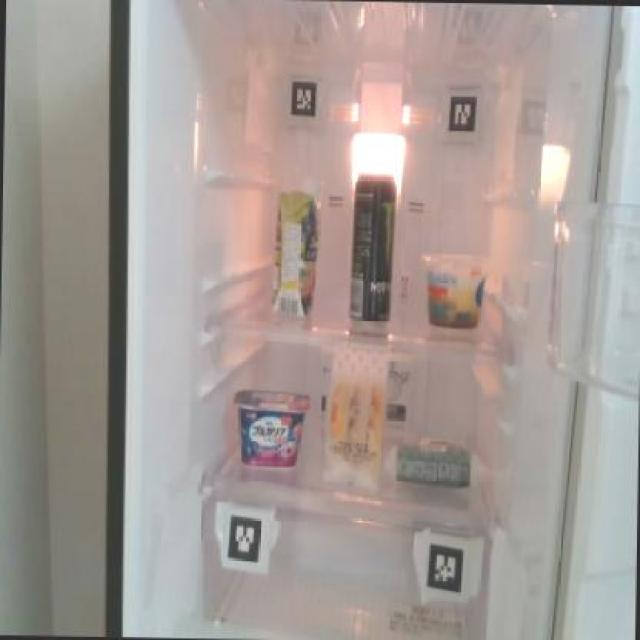energy_drink: (346, 167, 397, 324)
pudding: (422, 250, 487, 328)
rice_ball: (388, 434, 482, 494)
sandwich: (322, 347, 387, 491)
smoothie: (270, 175, 322, 318)
yogurt: (227, 386, 311, 468)
